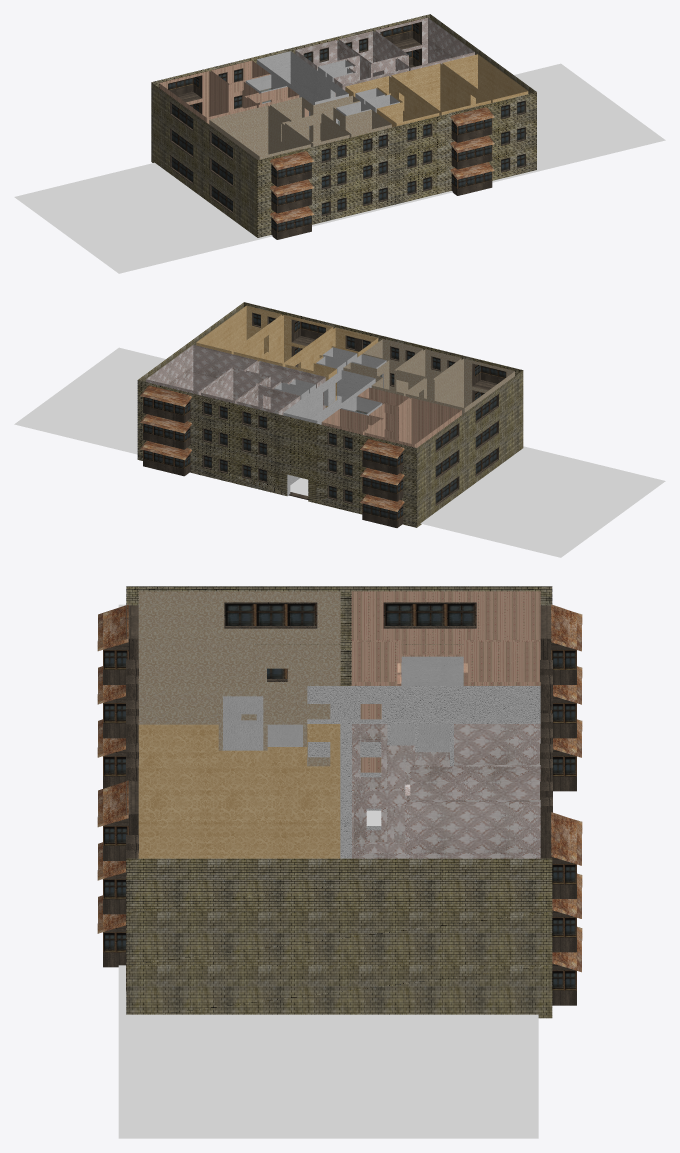
The model's file is hruschevka.glb.
3 renders of one model, top to bottom at view 1: azimuth 30°, elevation 25°; view 2: azimuth 150°, elevation 25°; view 3: azimuth 270°, elevation 25°, orthographic. The views are drawn at different scales.
Visible parts, largest first — view 1: Плоскость.004, Плоскость; view 2: Плоскость.004, Плоскость; view 3: Плоскость.004, Плоскость.
Part boxes in pixels (x1,y1,x2,y2): Плоскость.004: (151,14,536,239); Плоскость: (14,63,665,273); Плоскость.004: (137,302,523,527); Плоскость: (14,347,665,557); Плоскость.004: (97,586,582,1018); Плоскость: (118,604,538,1138).
Bounding box in the file's own units: 99.04 × 13.87 × 37.99.
Materials: 10 (10 with a texture image).
